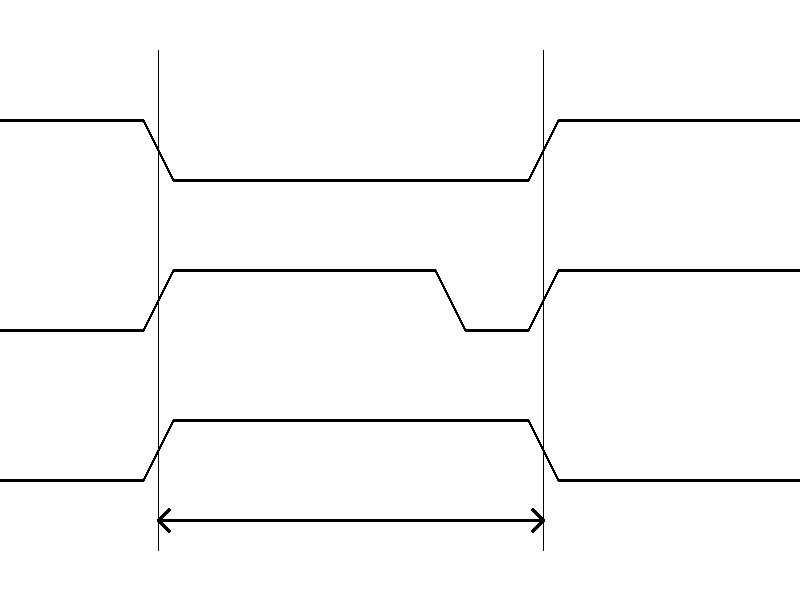double_arrow: (158, 505, 543, 535)
